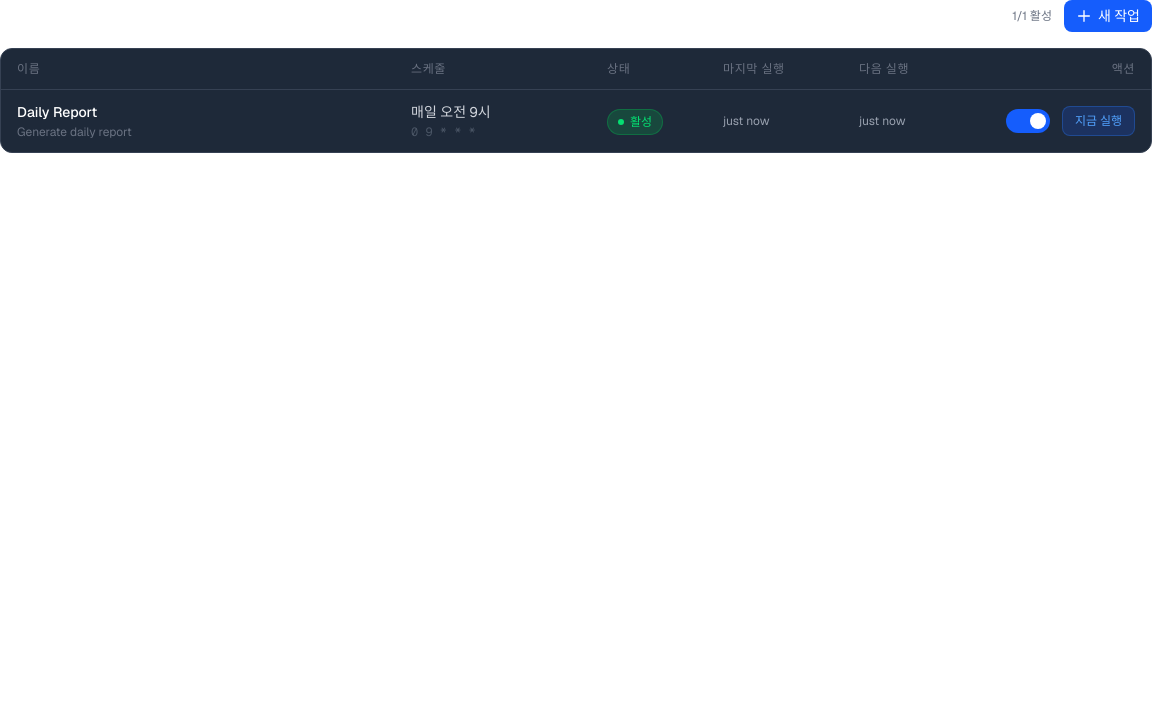
Scenario: CronJobsPanel › CreateJobModal open/close › closes CreateJobModal when backdrop overlay is clicked
The width and height of the screenshot is (1152, 720).
Click the button "새 작업".
click(1108, 16)  # box [1064,0,1151,32]
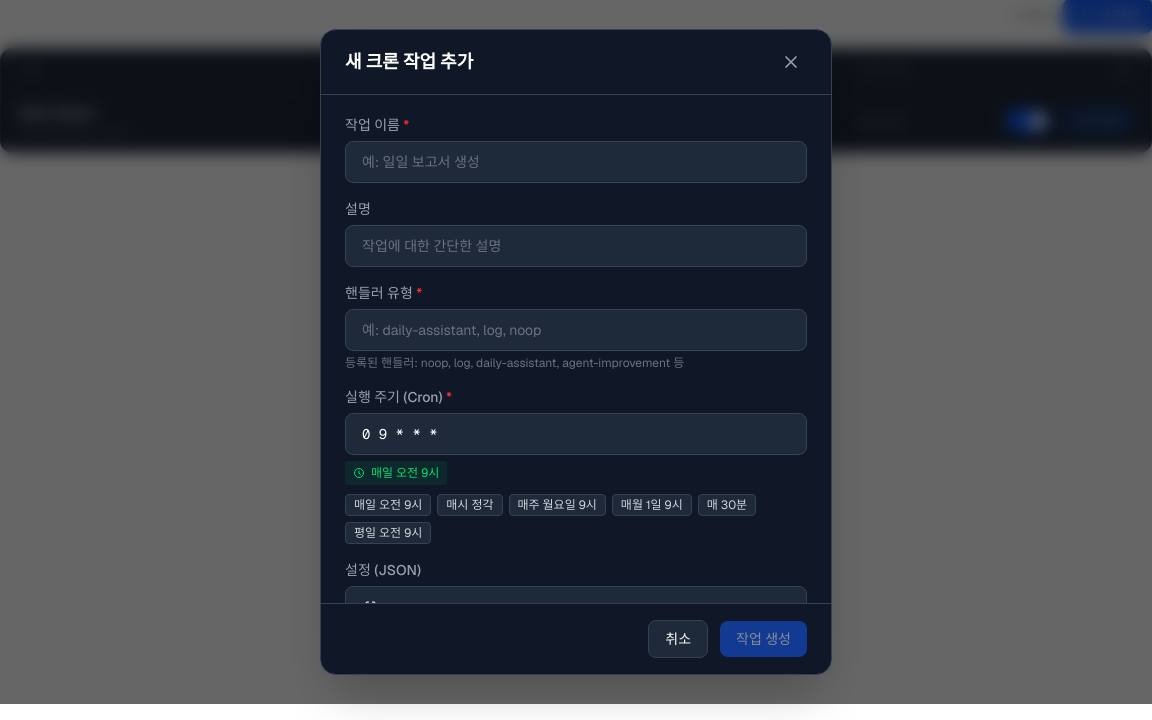
Check: the heading "새 크론 작업 추가" is shown, box [345,48,473,76]
Check: the element with class "z-40" is shown
Click the element with class "z-40".
click(69, 352)  # box [0,0,1151,704]
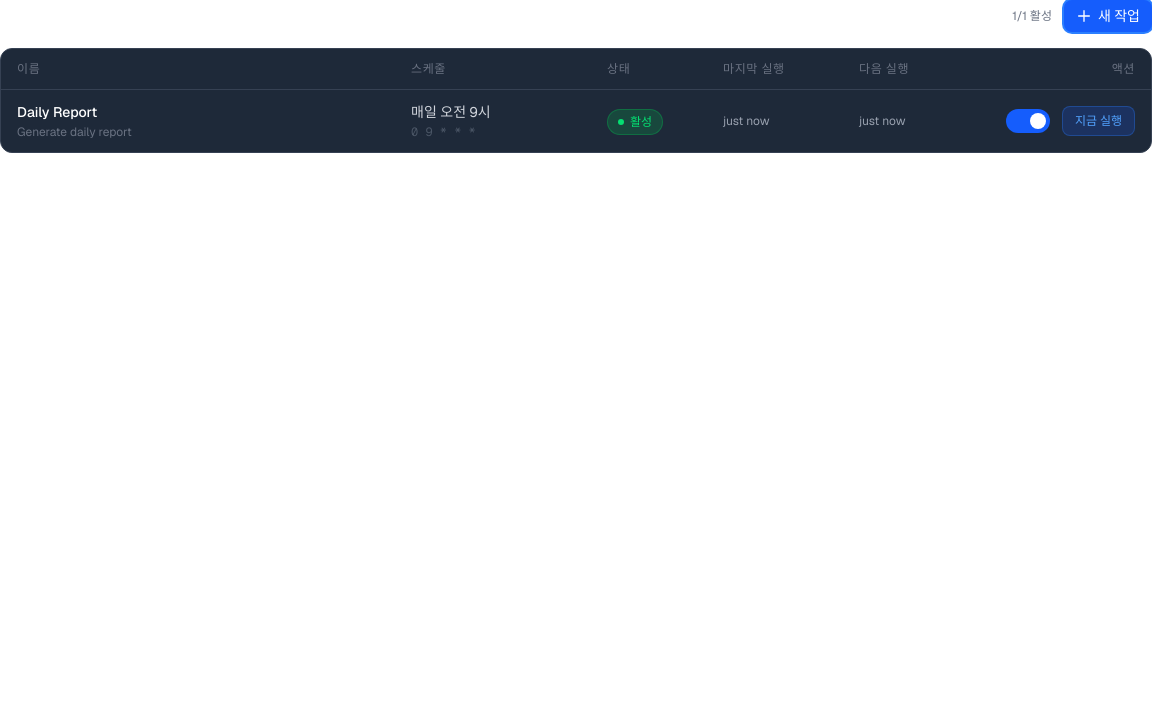
Check: the heading "새 크론 작업 추가" is gone
